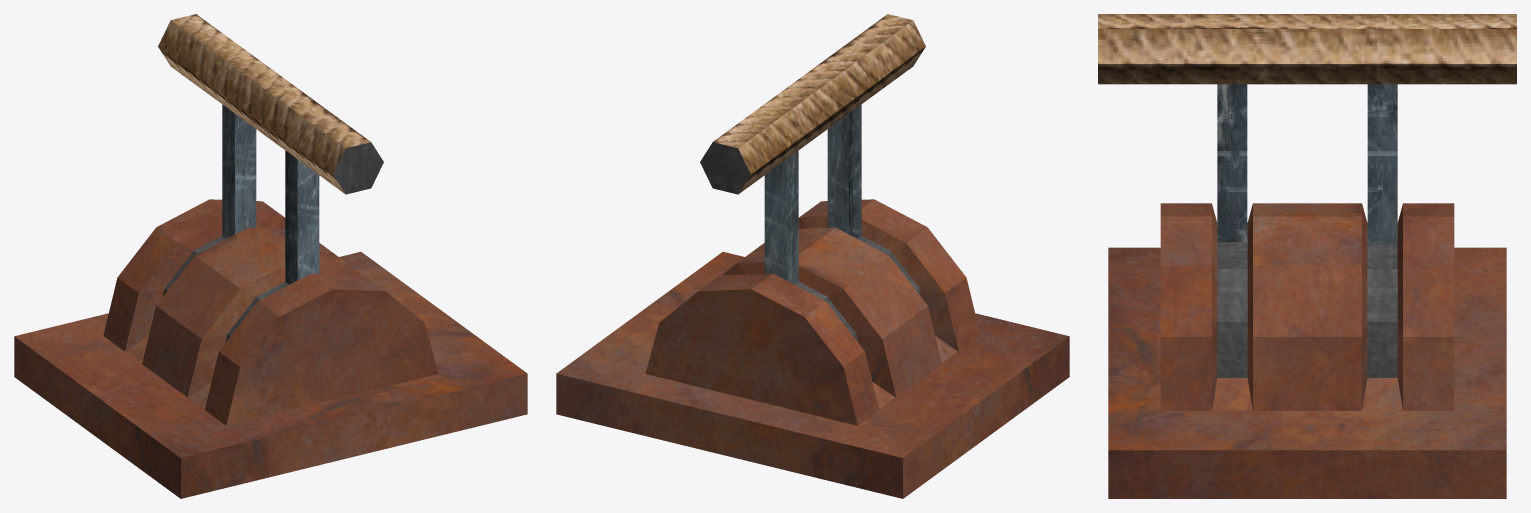
The model's file is Alavanca.glb.
The picture shows the model from 3 angles, left to right: view 1: azimuth 30°, elevation 25°; view 2: azimuth 150°, elevation 25°; view 3: azimuth 270°, elevation 25°; orthographic projection. The views are drawn at different scales.
Visible parts, largest first — view 1: Base, Haste; view 2: Base, Haste; view 3: Base, Haste.
Part boxes in pixels (box(x1,y1,x2,y2)): Base: box(14, 199, 527, 498); Haste: box(158, 14, 383, 284); Base: box(556, 199, 1069, 498); Haste: box(700, 14, 925, 284); Base: box(1108, 203, 1506, 498); Haste: box(1098, 14, 1516, 242).
Bounding box in the file's own units: 3.26 × 2.83 × 2.85.
1 material, 1 textured.
